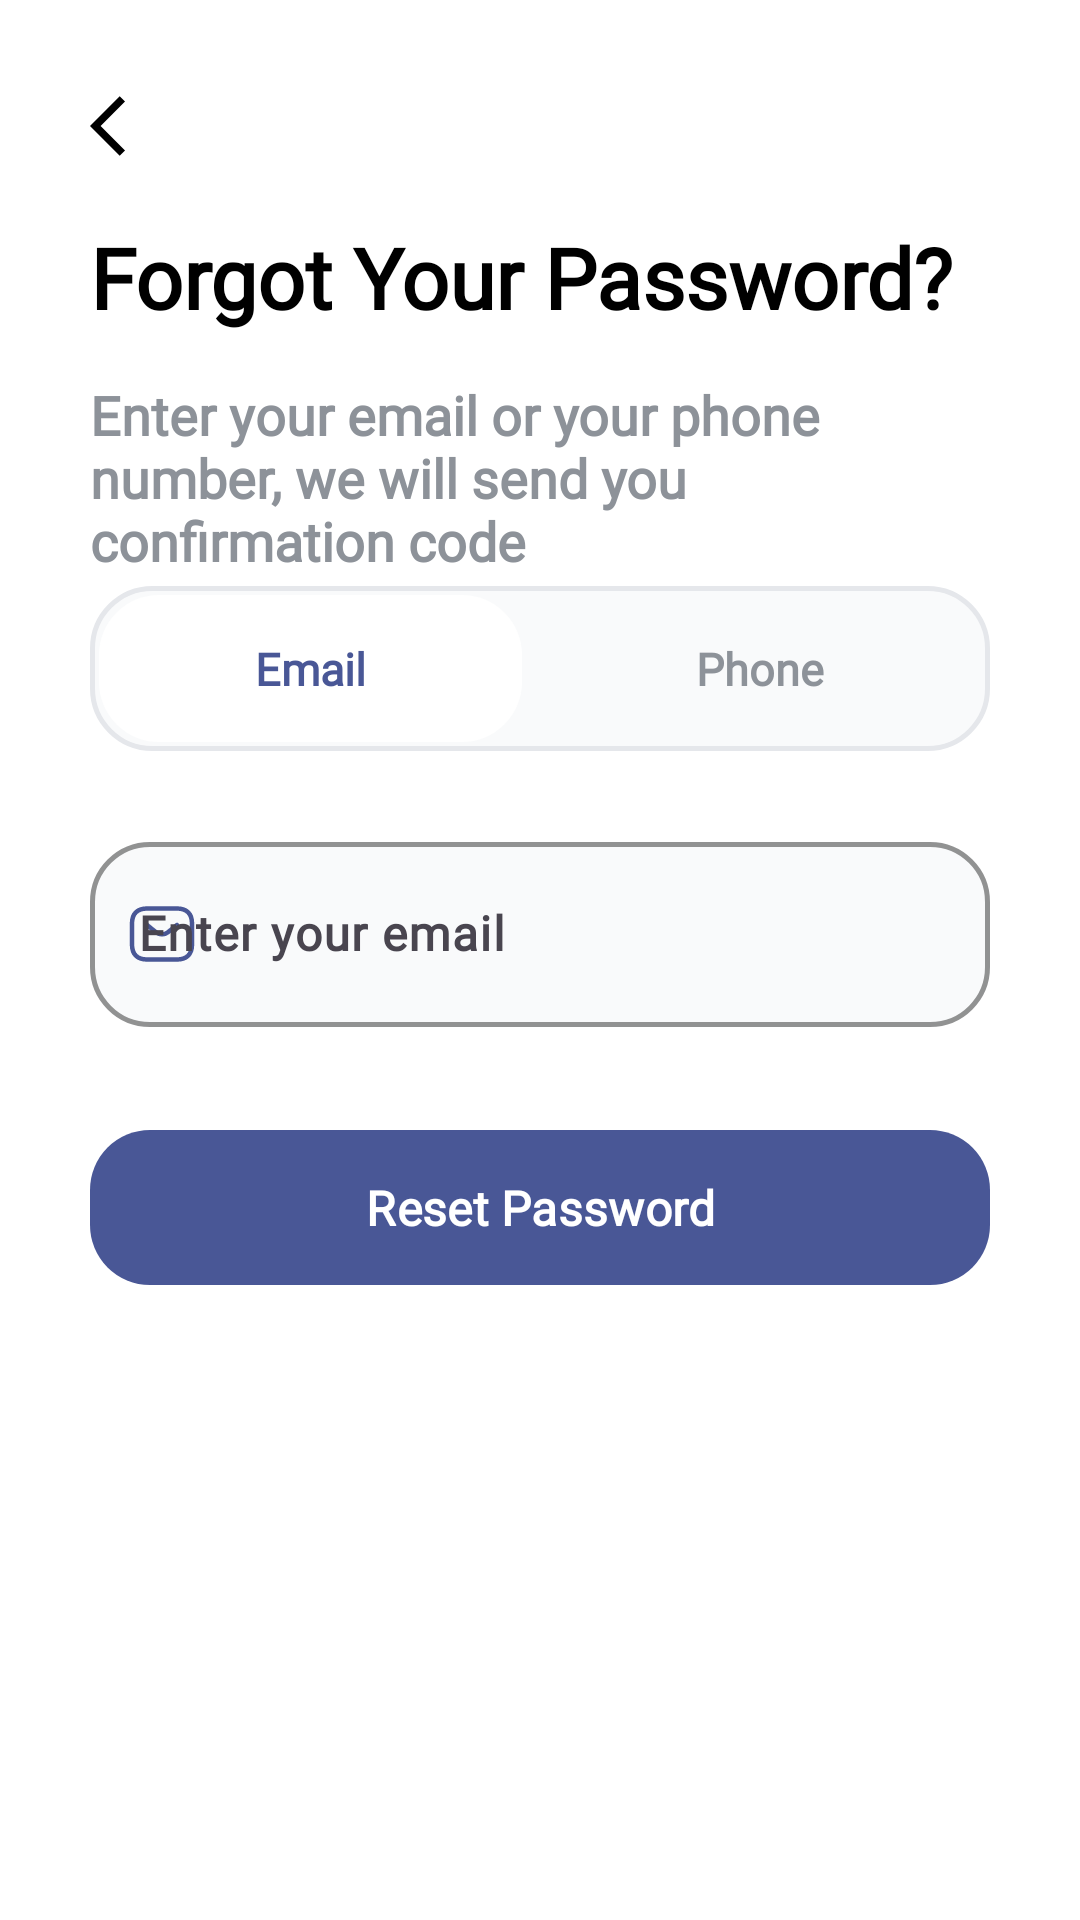

Named icons in this screenshot (1080*1920) and their centers, (x=x, y=y):
Back: (x=107, y=126)
